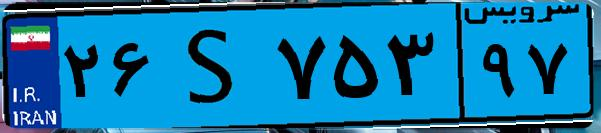2: (57, 26, 110, 100)
3: (385, 28, 445, 110)
5: (330, 28, 385, 110)
6: (110, 28, 158, 98)
7: (270, 28, 330, 110), (525, 38, 570, 115)
9: (475, 38, 525, 113)
S: (158, 12, 270, 120)
